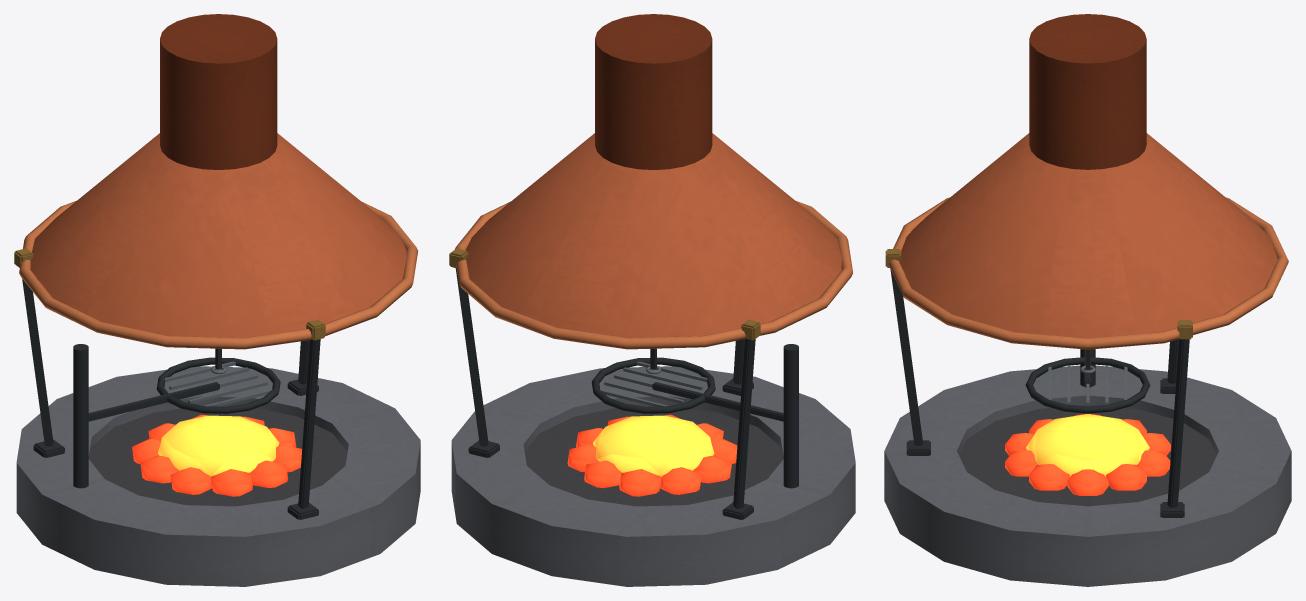
Rendered from hearth_brazier_hewn.glb.
3 renders of one model, left to right at view 1: azimuth 30°, elevation 25°; view 2: azimuth 150°, elevation 25°; view 3: azimuth 270°, elevation 25°, orthographic.
Visible parts, largest first — view 1: hearth_brazier_hewn; view 2: hearth_brazier_hewn; view 3: hearth_brazier_hewn.
Part boxes in pixels (bbox=[...]): hearth_brazier_hewn: bbox=[14, 14, 420, 586]; hearth_brazier_hewn: bbox=[449, 14, 855, 586]; hearth_brazier_hewn: bbox=[884, 14, 1291, 586].
Size of the model in its own units: 2.36 by 2.95 by 2.36.
Materials: 1 (1 with a texture image).
